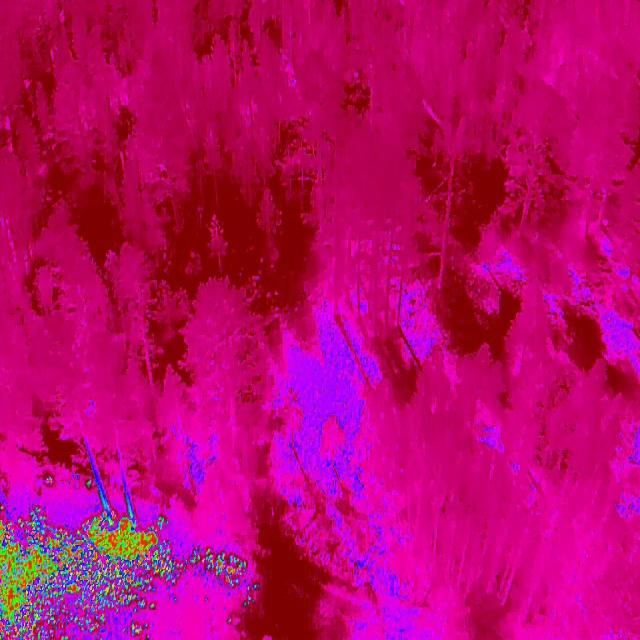fire: (0, 511, 166, 640), (165, 544, 256, 614)
